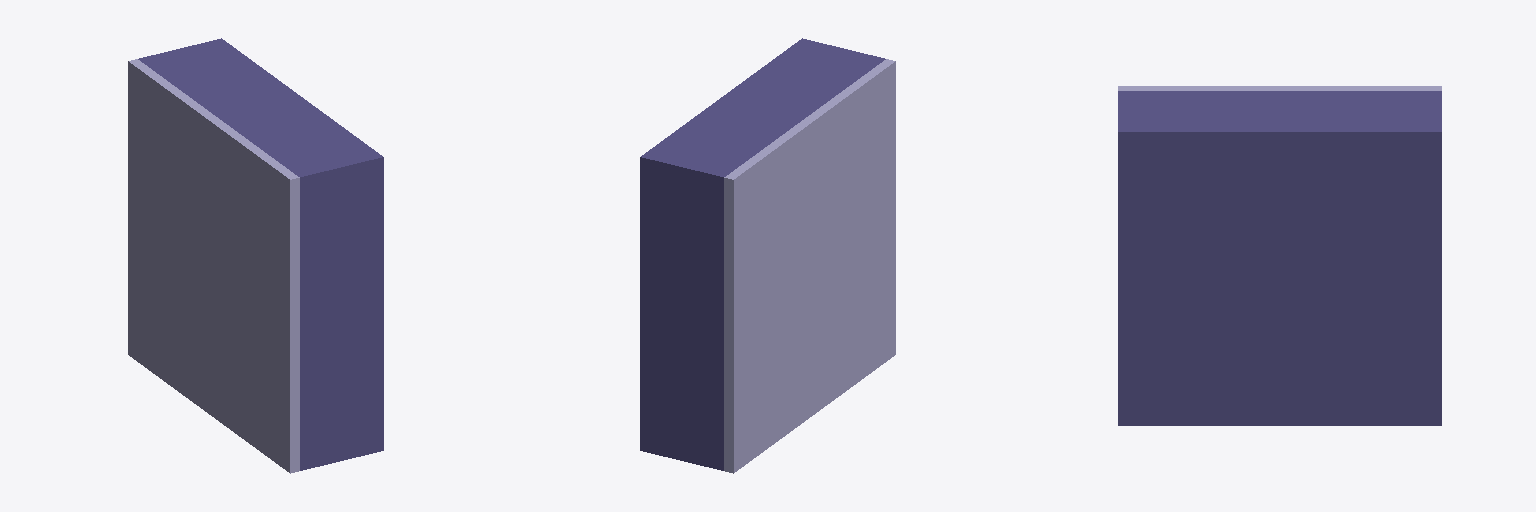
3 renders of one model, left to right at view 1: azimuth 30°, elevation 25°; view 2: azimuth 150°, elevation 25°; view 3: azimuth 270°, elevation 25°, orthographic.
Visible parts, largest first — view 1: mergedBlocks; view 2: mergedBlocks; view 3: mergedBlocks.
Boxes of the visible parts, x1,y1,x2,y2 form: mergedBlocks: [128, 38, 383, 473]; mergedBlocks: [640, 38, 895, 473]; mergedBlocks: [1118, 86, 1441, 425].
Size of the model in its own units: 1 by 3 by 3.
Materials: 1 (1 with a texture image).